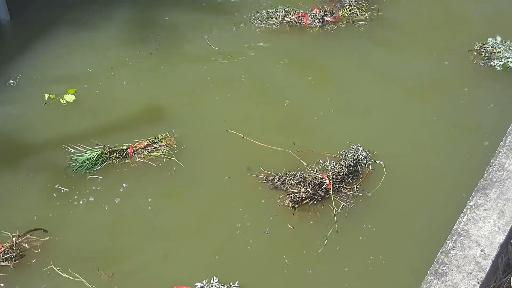leaf: (39, 93, 85, 109)
twig: (221, 128, 400, 253), (51, 259, 254, 288), (67, 136, 204, 175), (258, 9, 388, 34), (0, 226, 57, 272), (466, 34, 512, 69), (294, 0, 378, 6)
